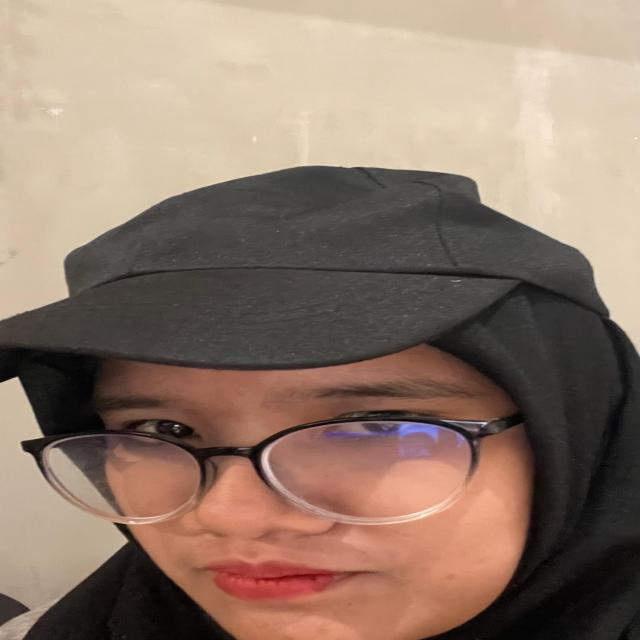3_gorra: (0, 156, 615, 372)
